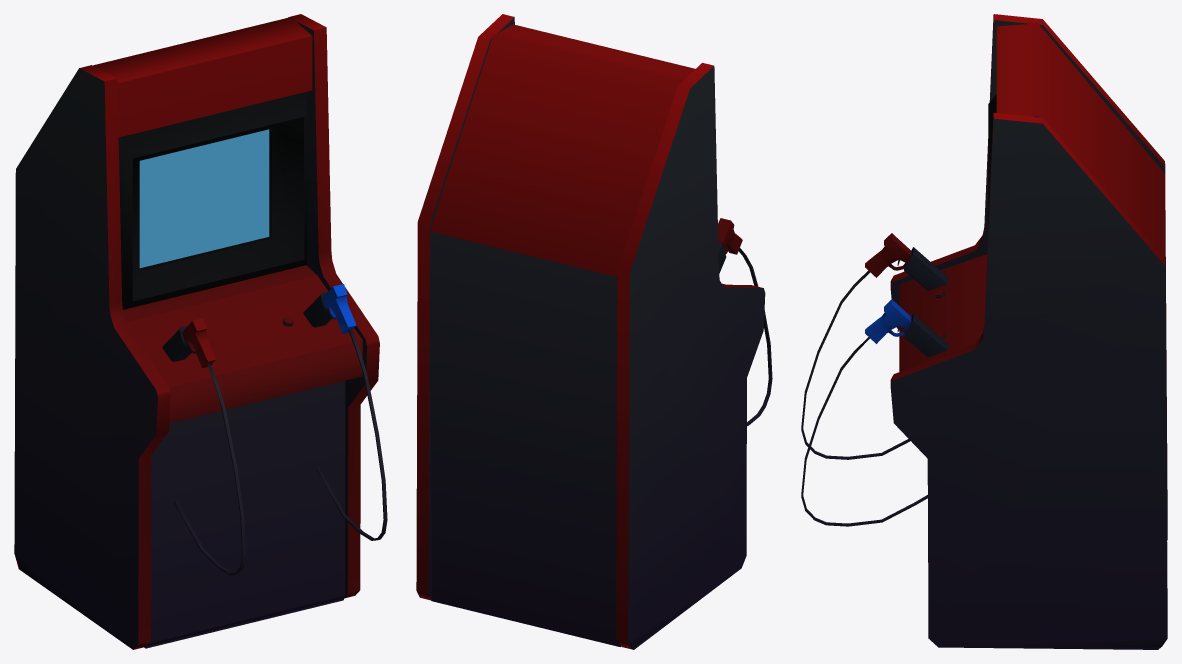
File: human-electronics-arcade-machine_v2.fbx
The picture shows the model from 3 angles, left to right: view 1: azimuth 30°, elevation 25°; view 2: azimuth 150°, elevation 25°; view 3: azimuth 270°, elevation 25°; orthographic projection. The views are drawn at different scales.
Visible parts, largest first — view 1: Arcade Machine_v2; view 2: Arcade Machine_v2; view 3: Arcade Machine_v2.
Part boxes in pixels (x1,y1,x2,y2): Arcade Machine_v2: (14, 14, 387, 649); Arcade Machine_v2: (416, 14, 772, 649); Arcade Machine_v2: (801, 14, 1167, 649).
Size of the model in its own units: 0.7665 by 1.8 by 1.13.
